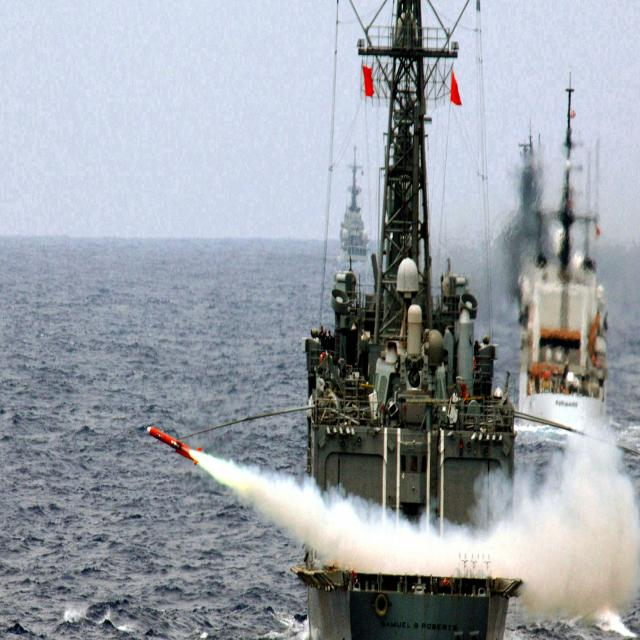navalvessels: (291, 10, 525, 640), (496, 114, 630, 443), (326, 159, 373, 283)
